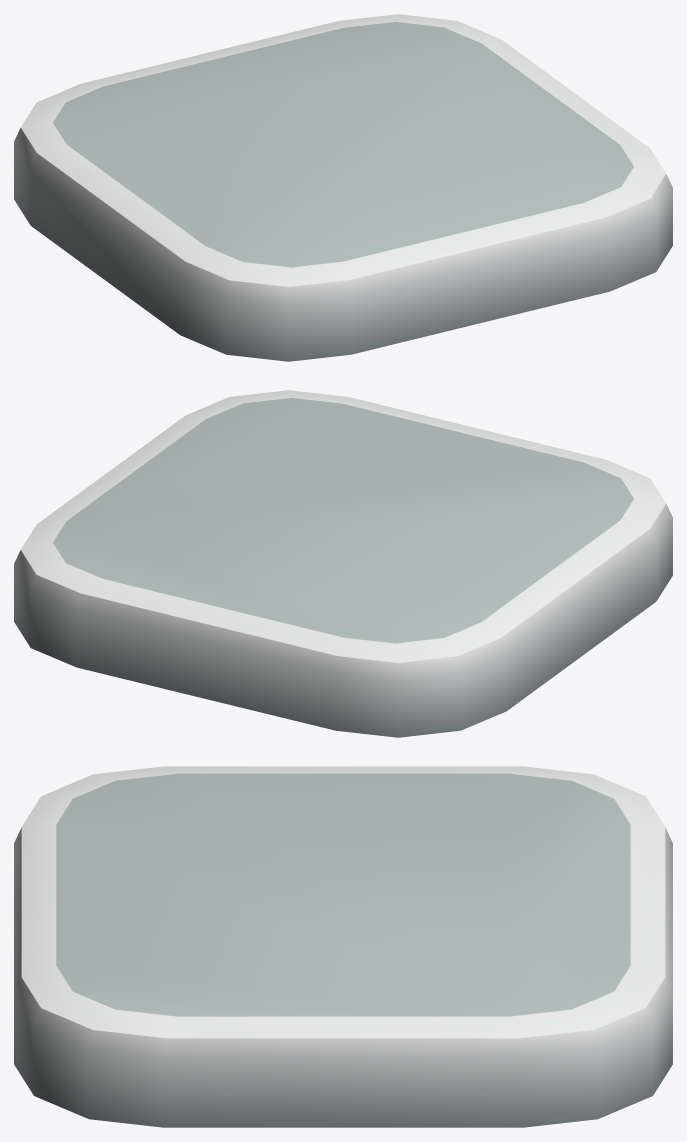
The model's file is SlotIndicator.fbx.
3 renders of one model, top to bottom at view 1: azimuth 30°, elevation 25°; view 2: azimuth 150°, elevation 25°; view 3: azimuth 270°, elevation 25°, orthographic. The views are drawn at different scales.
Parts seen in each view (by area): view 1: SlotIndicator; view 2: SlotIndicator; view 3: SlotIndicator.
Boxes of the visible parts, x1=… form: SlotIndicator: x1=14, y1=14, x2=672, y2=361; SlotIndicator: x1=14, y1=390, x2=672, y2=737; SlotIndicator: x1=14, y1=766, x2=672, y2=1127.
Size of the model in its own units: 200 by 31.25 by 200.
